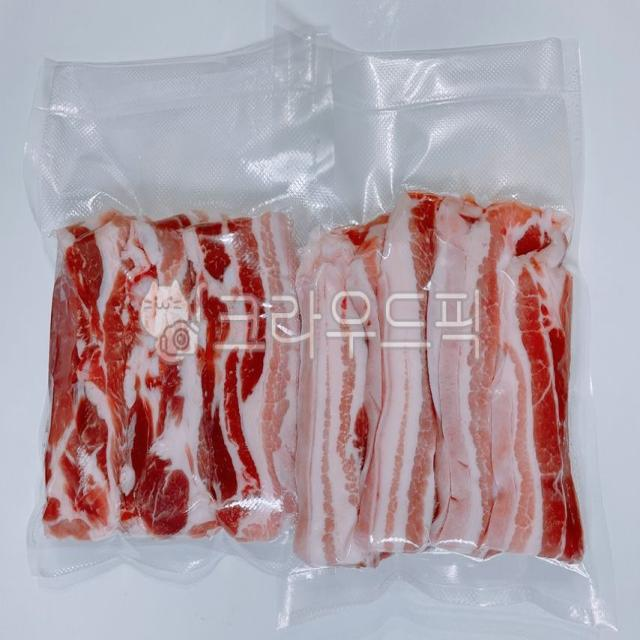pork: (14, 152, 606, 608)
